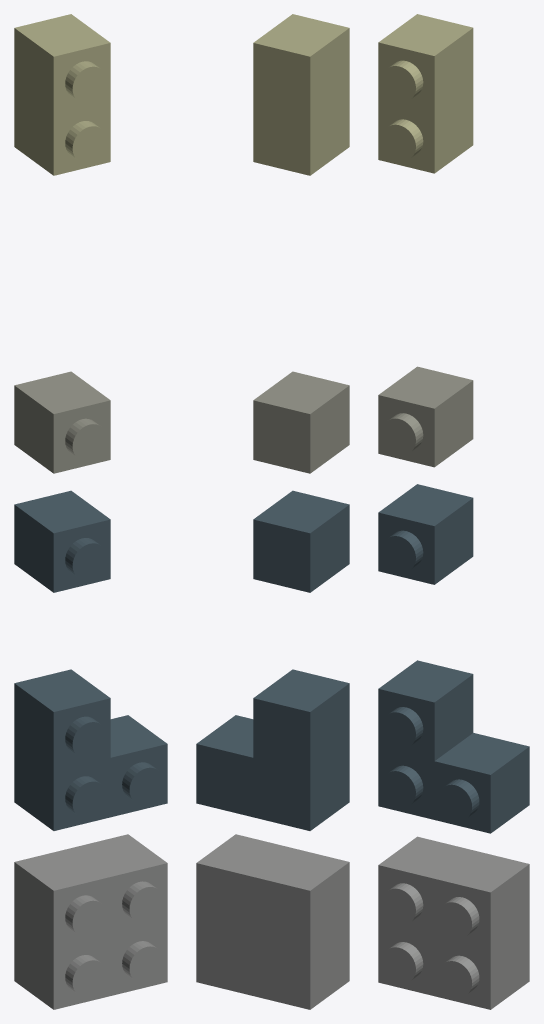
Rendered from current.glb.
3 views of the same model, side by side, from view 1: azimuth 30°, elevation 25°; view 2: azimuth 150°, elevation 25°; view 3: azimuth 330°, elevation 25° (orthographic).
Visible parts, largest first — view 1: world; view 2: world; view 3: world.
Boxes of the visible parts, <box> form: world: <box>14,14,167,1009</box>; world: <box>196,14,349,1009</box>; world: <box>378,14,529,1009</box>.
Size of the model in its own units: 16 by 128 by 11.4.
